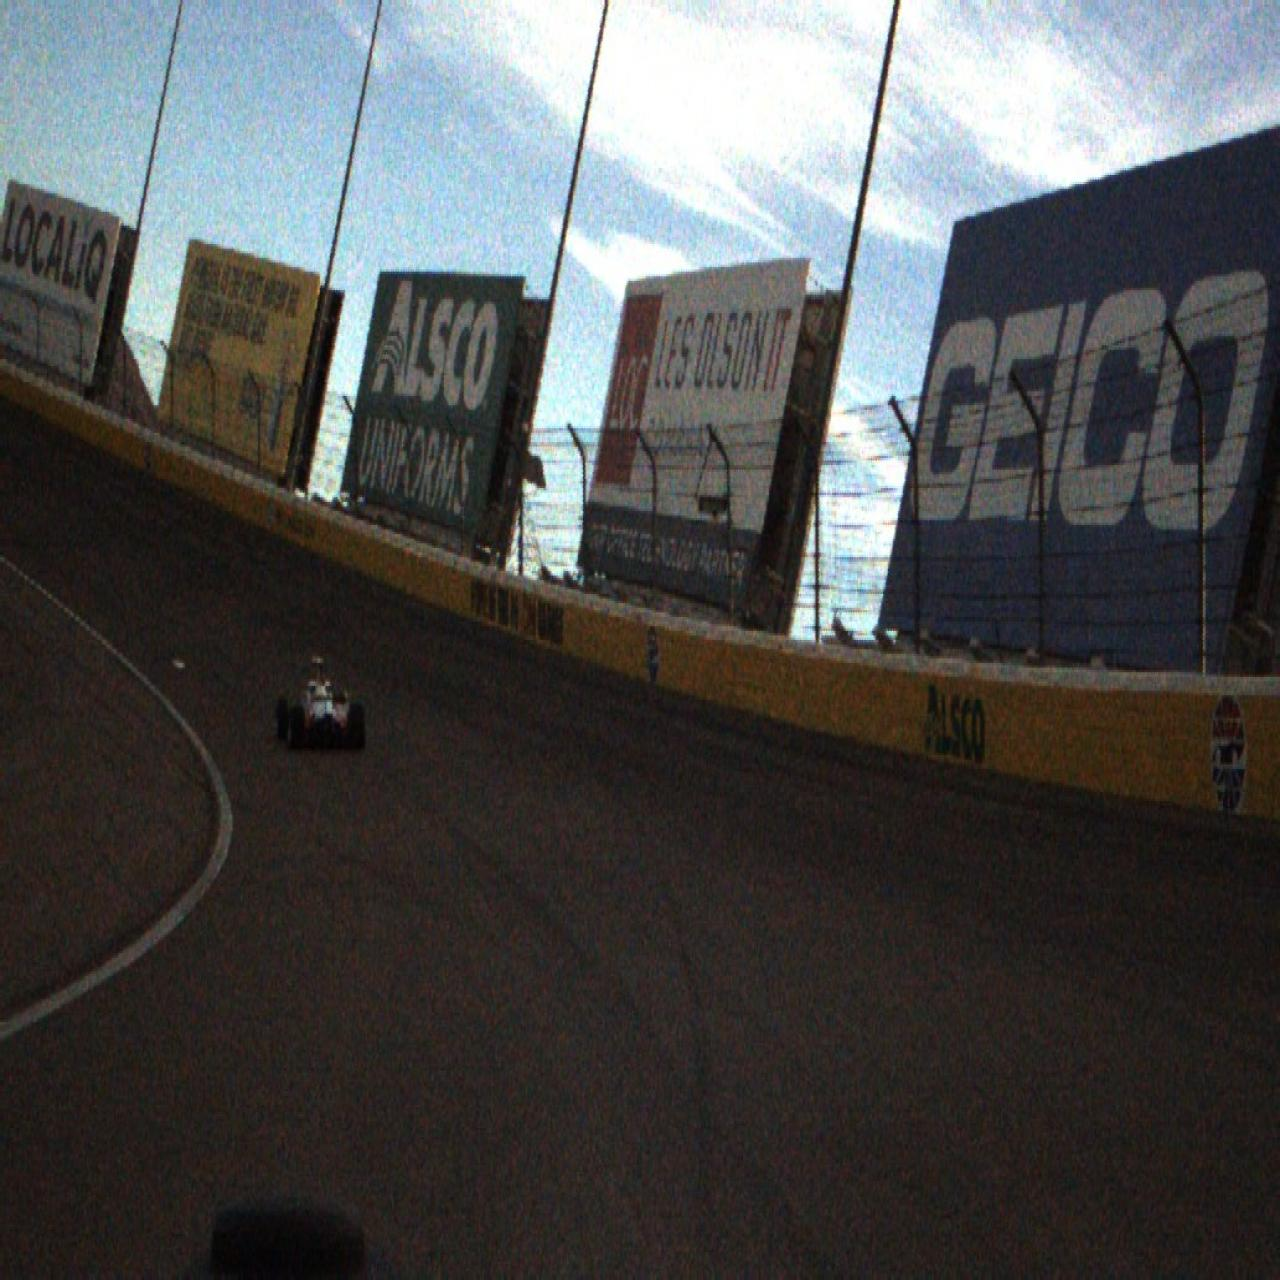AV: (274, 655, 366, 751)
Wheel: (287, 706, 305, 751), (349, 703, 365, 753), (274, 696, 290, 741)
